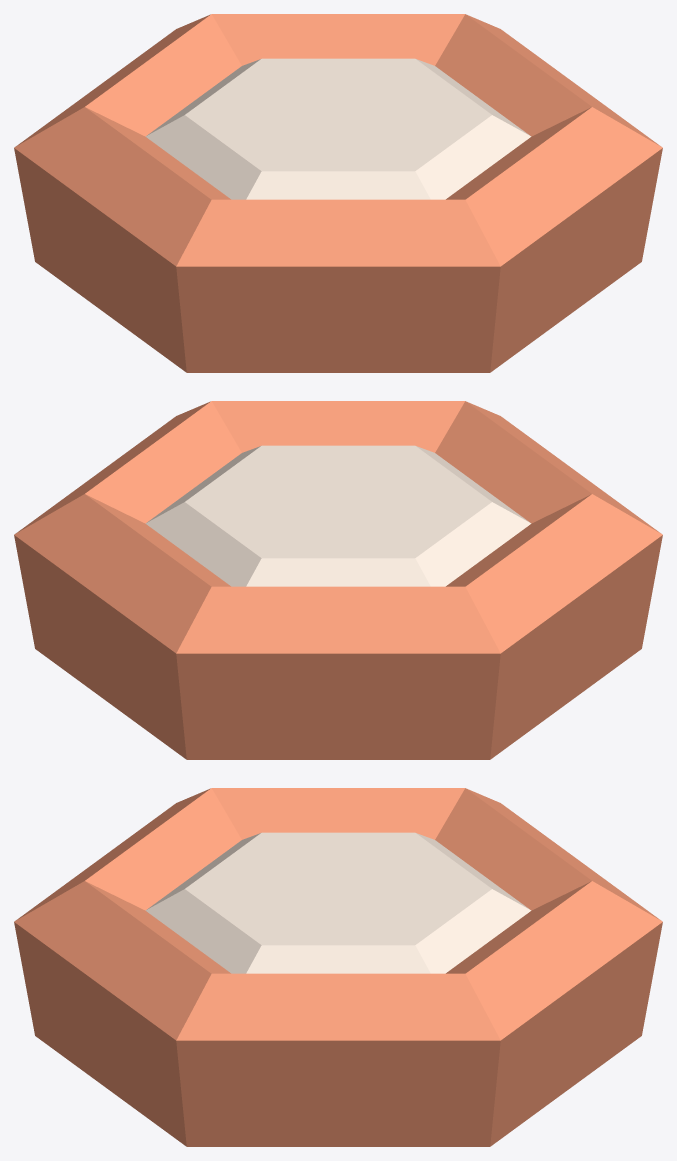
The model's file is VatrushkaCheesecake.fbx.
3 views of the same model, one above another, from view 1: azimuth 30°, elevation 25°; view 2: azimuth 150°, elevation 25°; view 3: azimuth 270°, elevation 25° (orthographic).
Visible parts, largest first — view 1: Vatrushka Cheesecake; view 2: Vatrushka Cheesecake; view 3: Vatrushka Cheesecake.
Part boxes in pixels (<box>): Vatrushka Cheesecake: <box>14,14,662,372</box>; Vatrushka Cheesecake: <box>14,401,662,759</box>; Vatrushka Cheesecake: <box>14,788,662,1146</box>.
Bounding box in the file's own units: 52.94 × 16.1 × 61.13.
